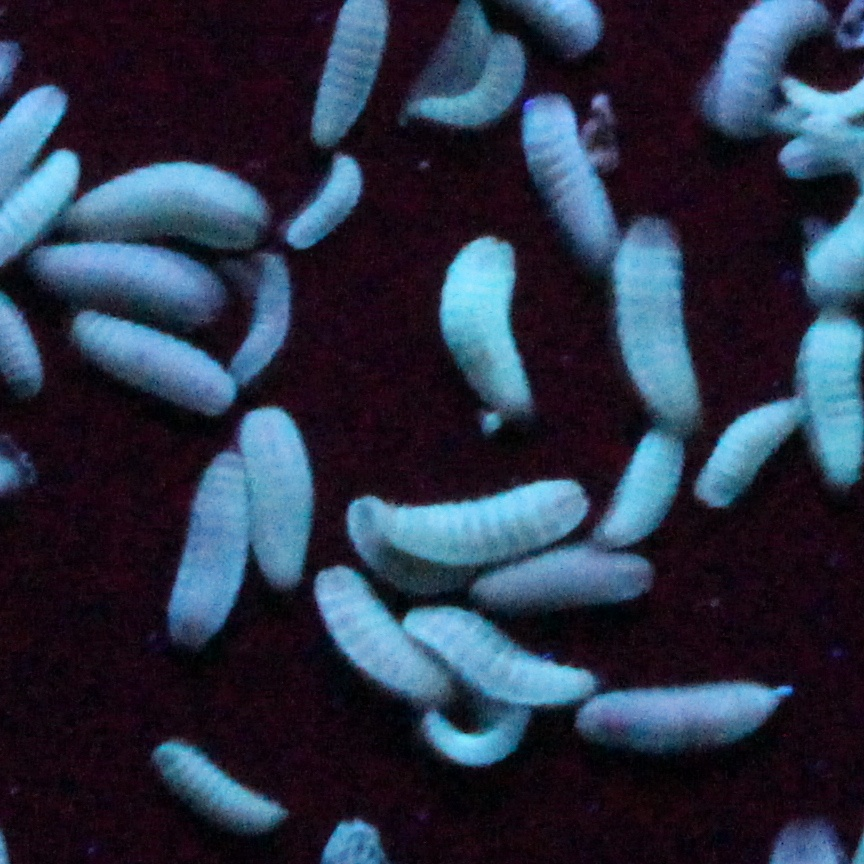larve: (397, 602, 597, 702), (616, 219, 704, 421), (311, 569, 440, 702), (375, 475, 591, 553), (95, 163, 273, 253), (36, 246, 228, 326), (583, 681, 803, 748), (438, 236, 526, 402), (236, 402, 314, 585), (521, 94, 612, 250), (167, 453, 236, 648), (89, 328, 232, 416), (156, 740, 281, 828), (415, 38, 528, 130), (705, 391, 797, 504), (601, 430, 685, 546), (479, 553, 662, 599), (287, 157, 365, 253), (240, 269, 291, 377)
